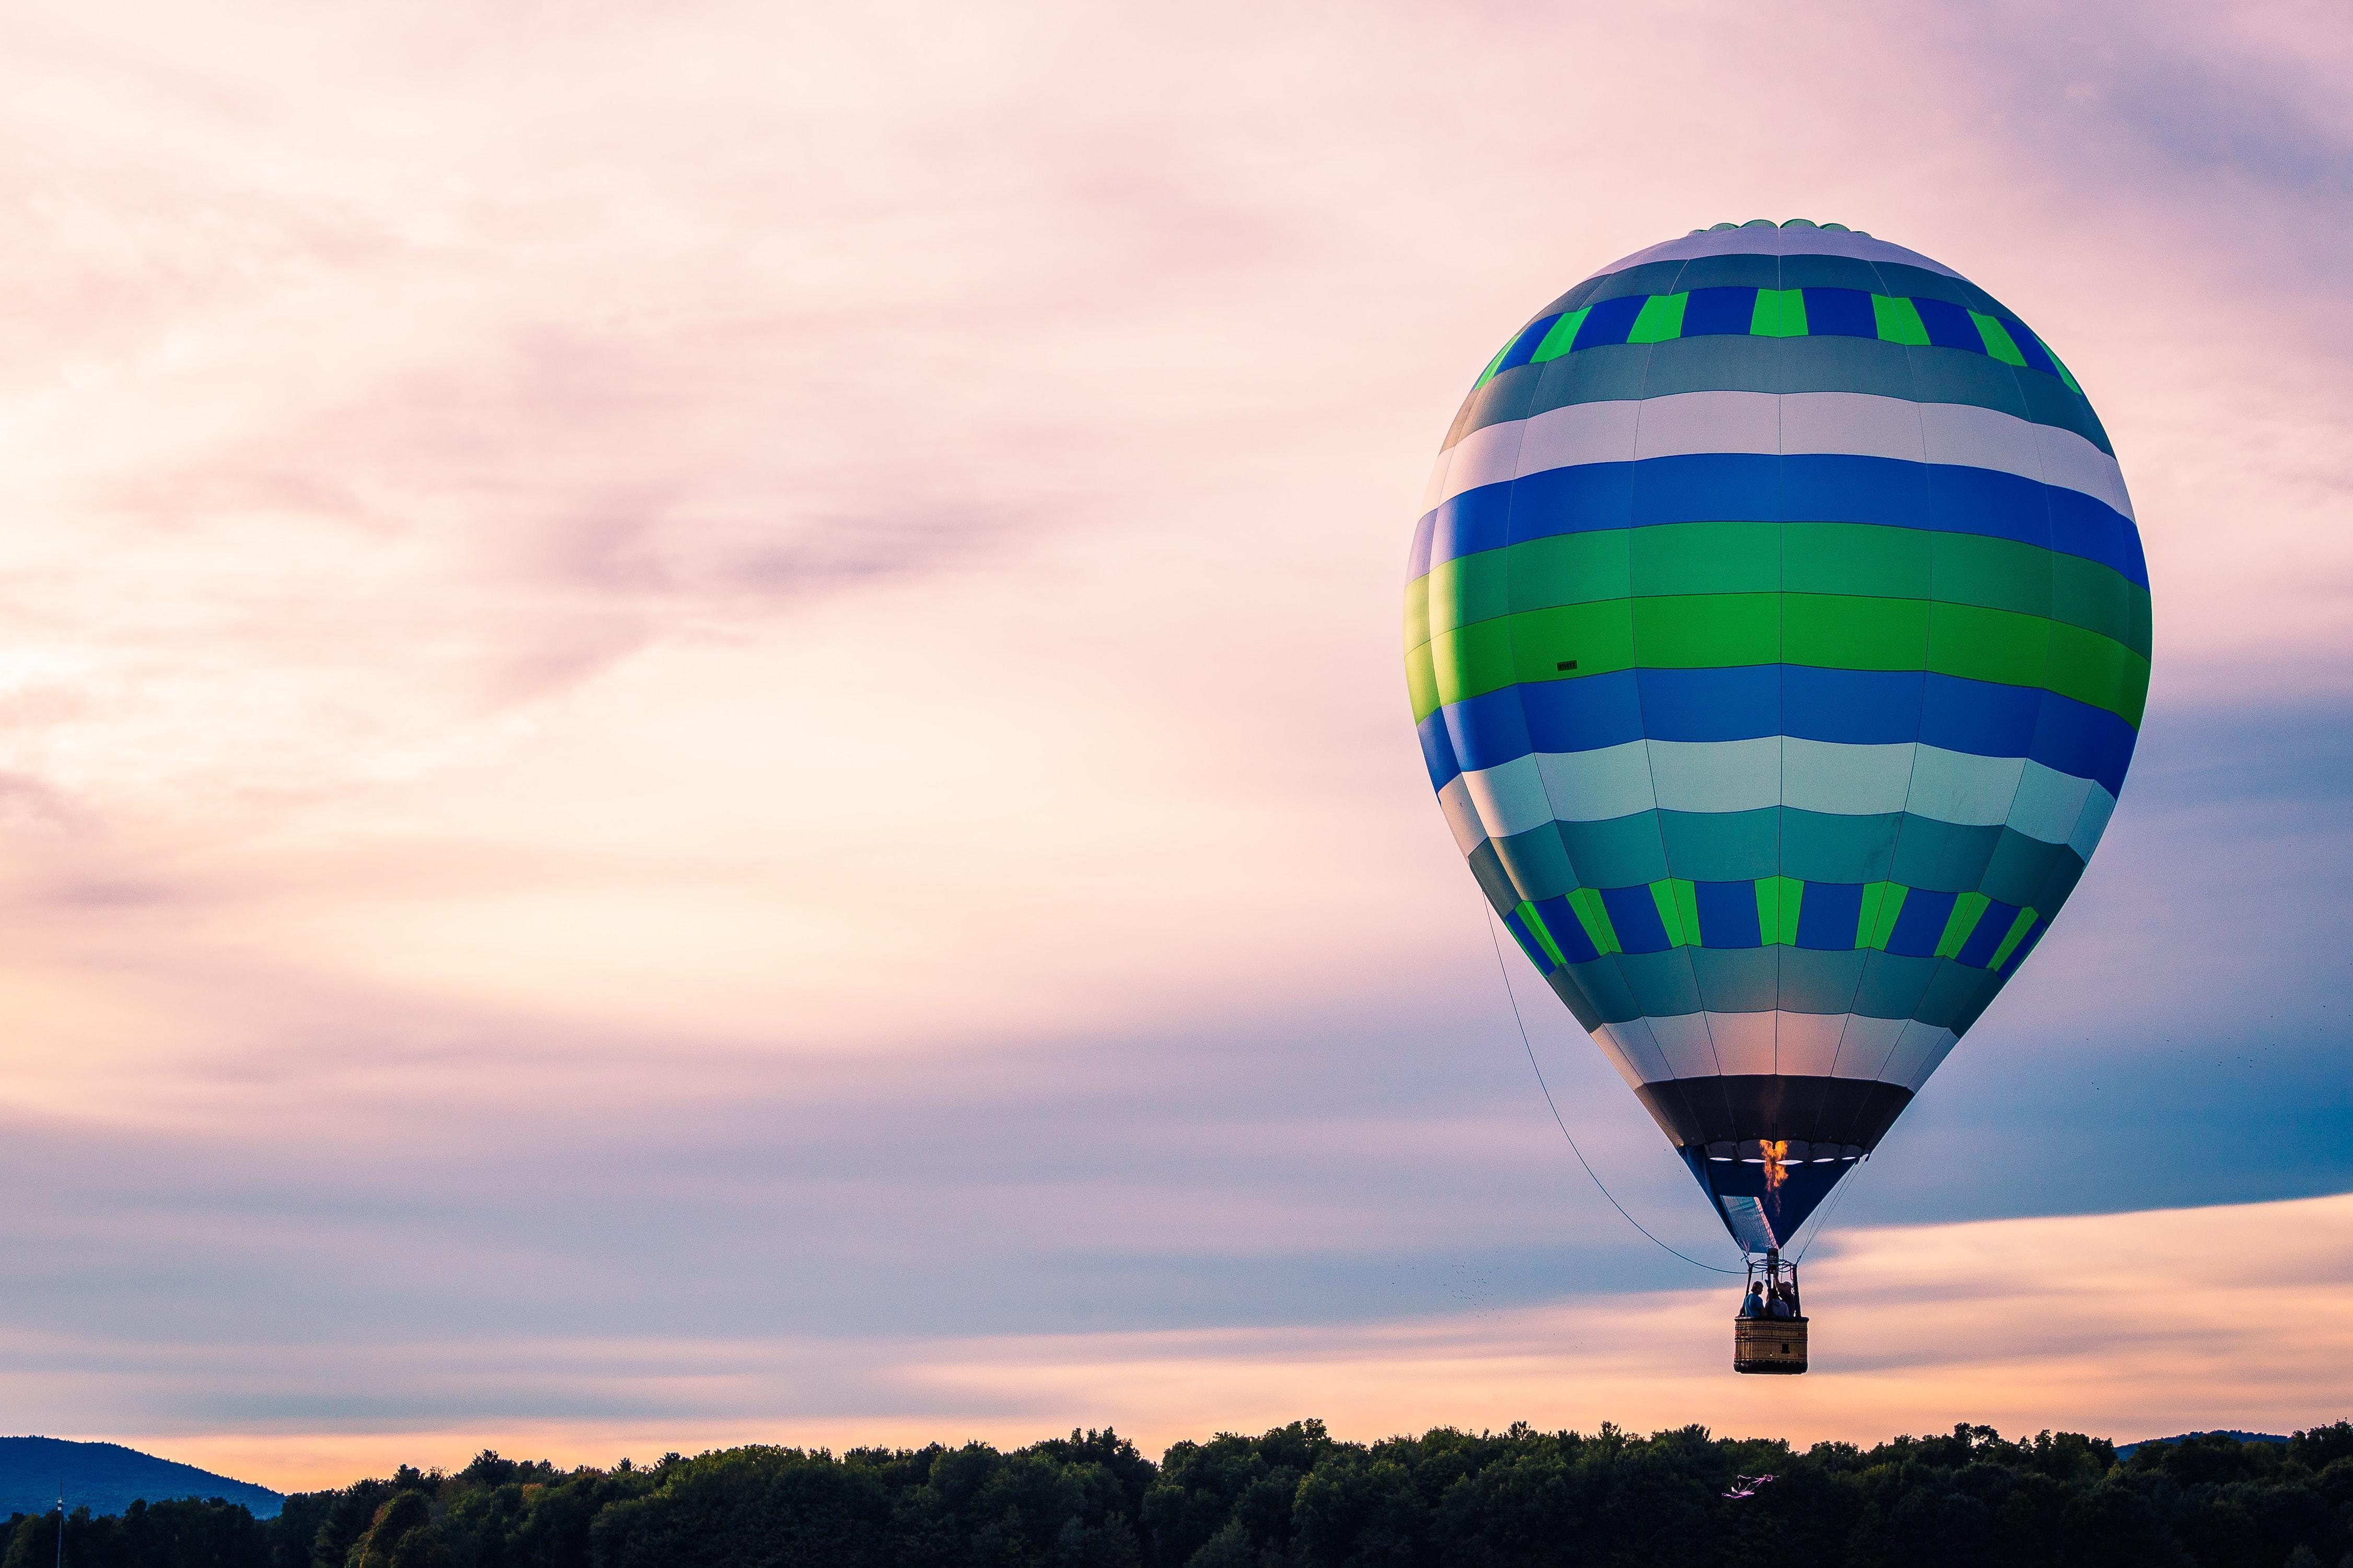hot air ballon: (1401, 222, 2155, 1381)
